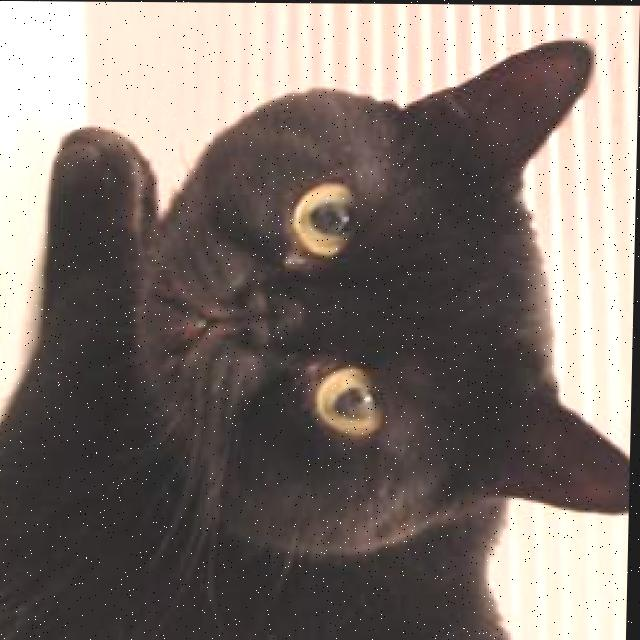Bombay: (0, 31, 639, 640)
